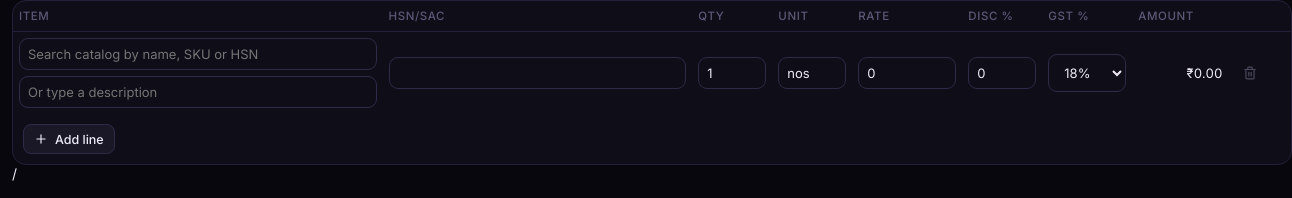
Test: LineItemsEditor — reusable items › selecting an item fills the line and locks price and GST, but keeps quantity and discount editable
The width and height of the screenshot is (1292, 198).
Click the dropdown labelled "Search catalog" at coordinates (198, 54), box [19,38,376,70]
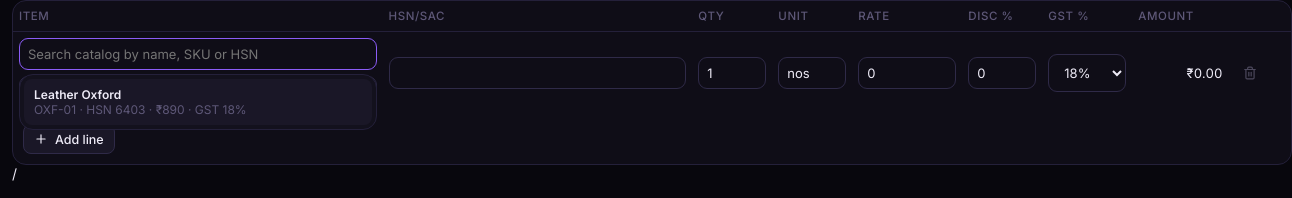
Click the option "Leather Oxford OXF-01 · HSN 6403 · ₹890 · GST 18%" at coordinates (198, 102), box [24,79,372,125]
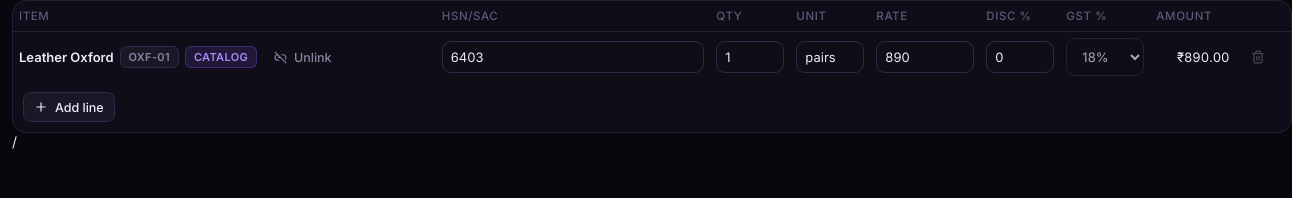
Result: the text "OXF-01" is shown at [120,46,179,68]
Result: the text "Catalog" is shown at [185,46,257,68]
Result: the number field named "Line 1 rate" is disabled at [876,41,974,73]
